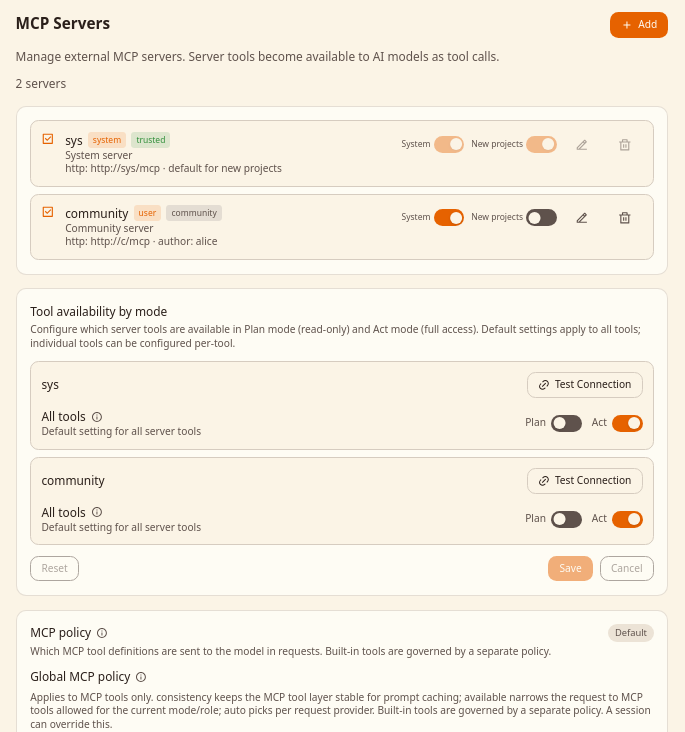
Test: McpSettings — реестр MCP (ADR-071 §2.5) › не-ADMIN видит пояснение, что stdio добавляет только администратор
// Открыть форму добавления.
Click the button "Add" at (639, 25), box 610,12 -> 668,38
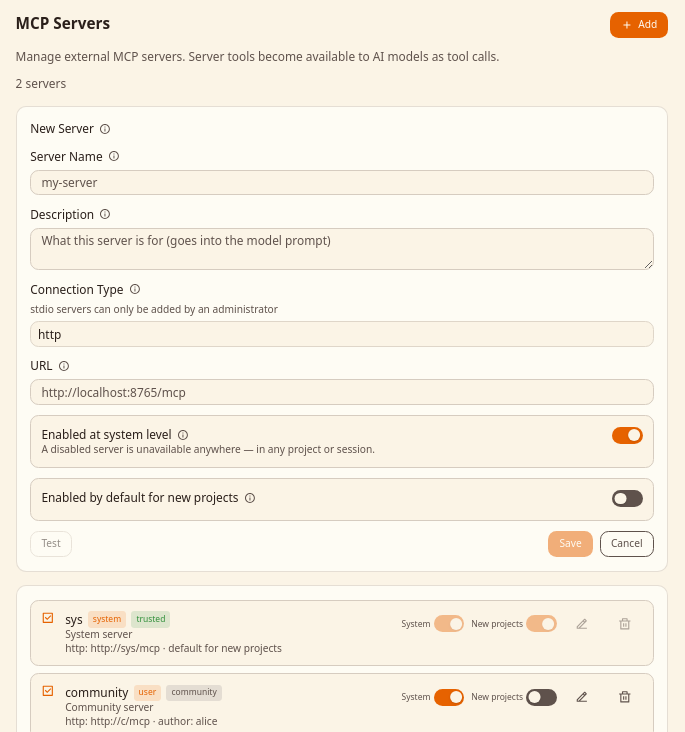
Expected: the text "stdio servers can only be added by an administrator" is shown, 30,302 -> 278,316
